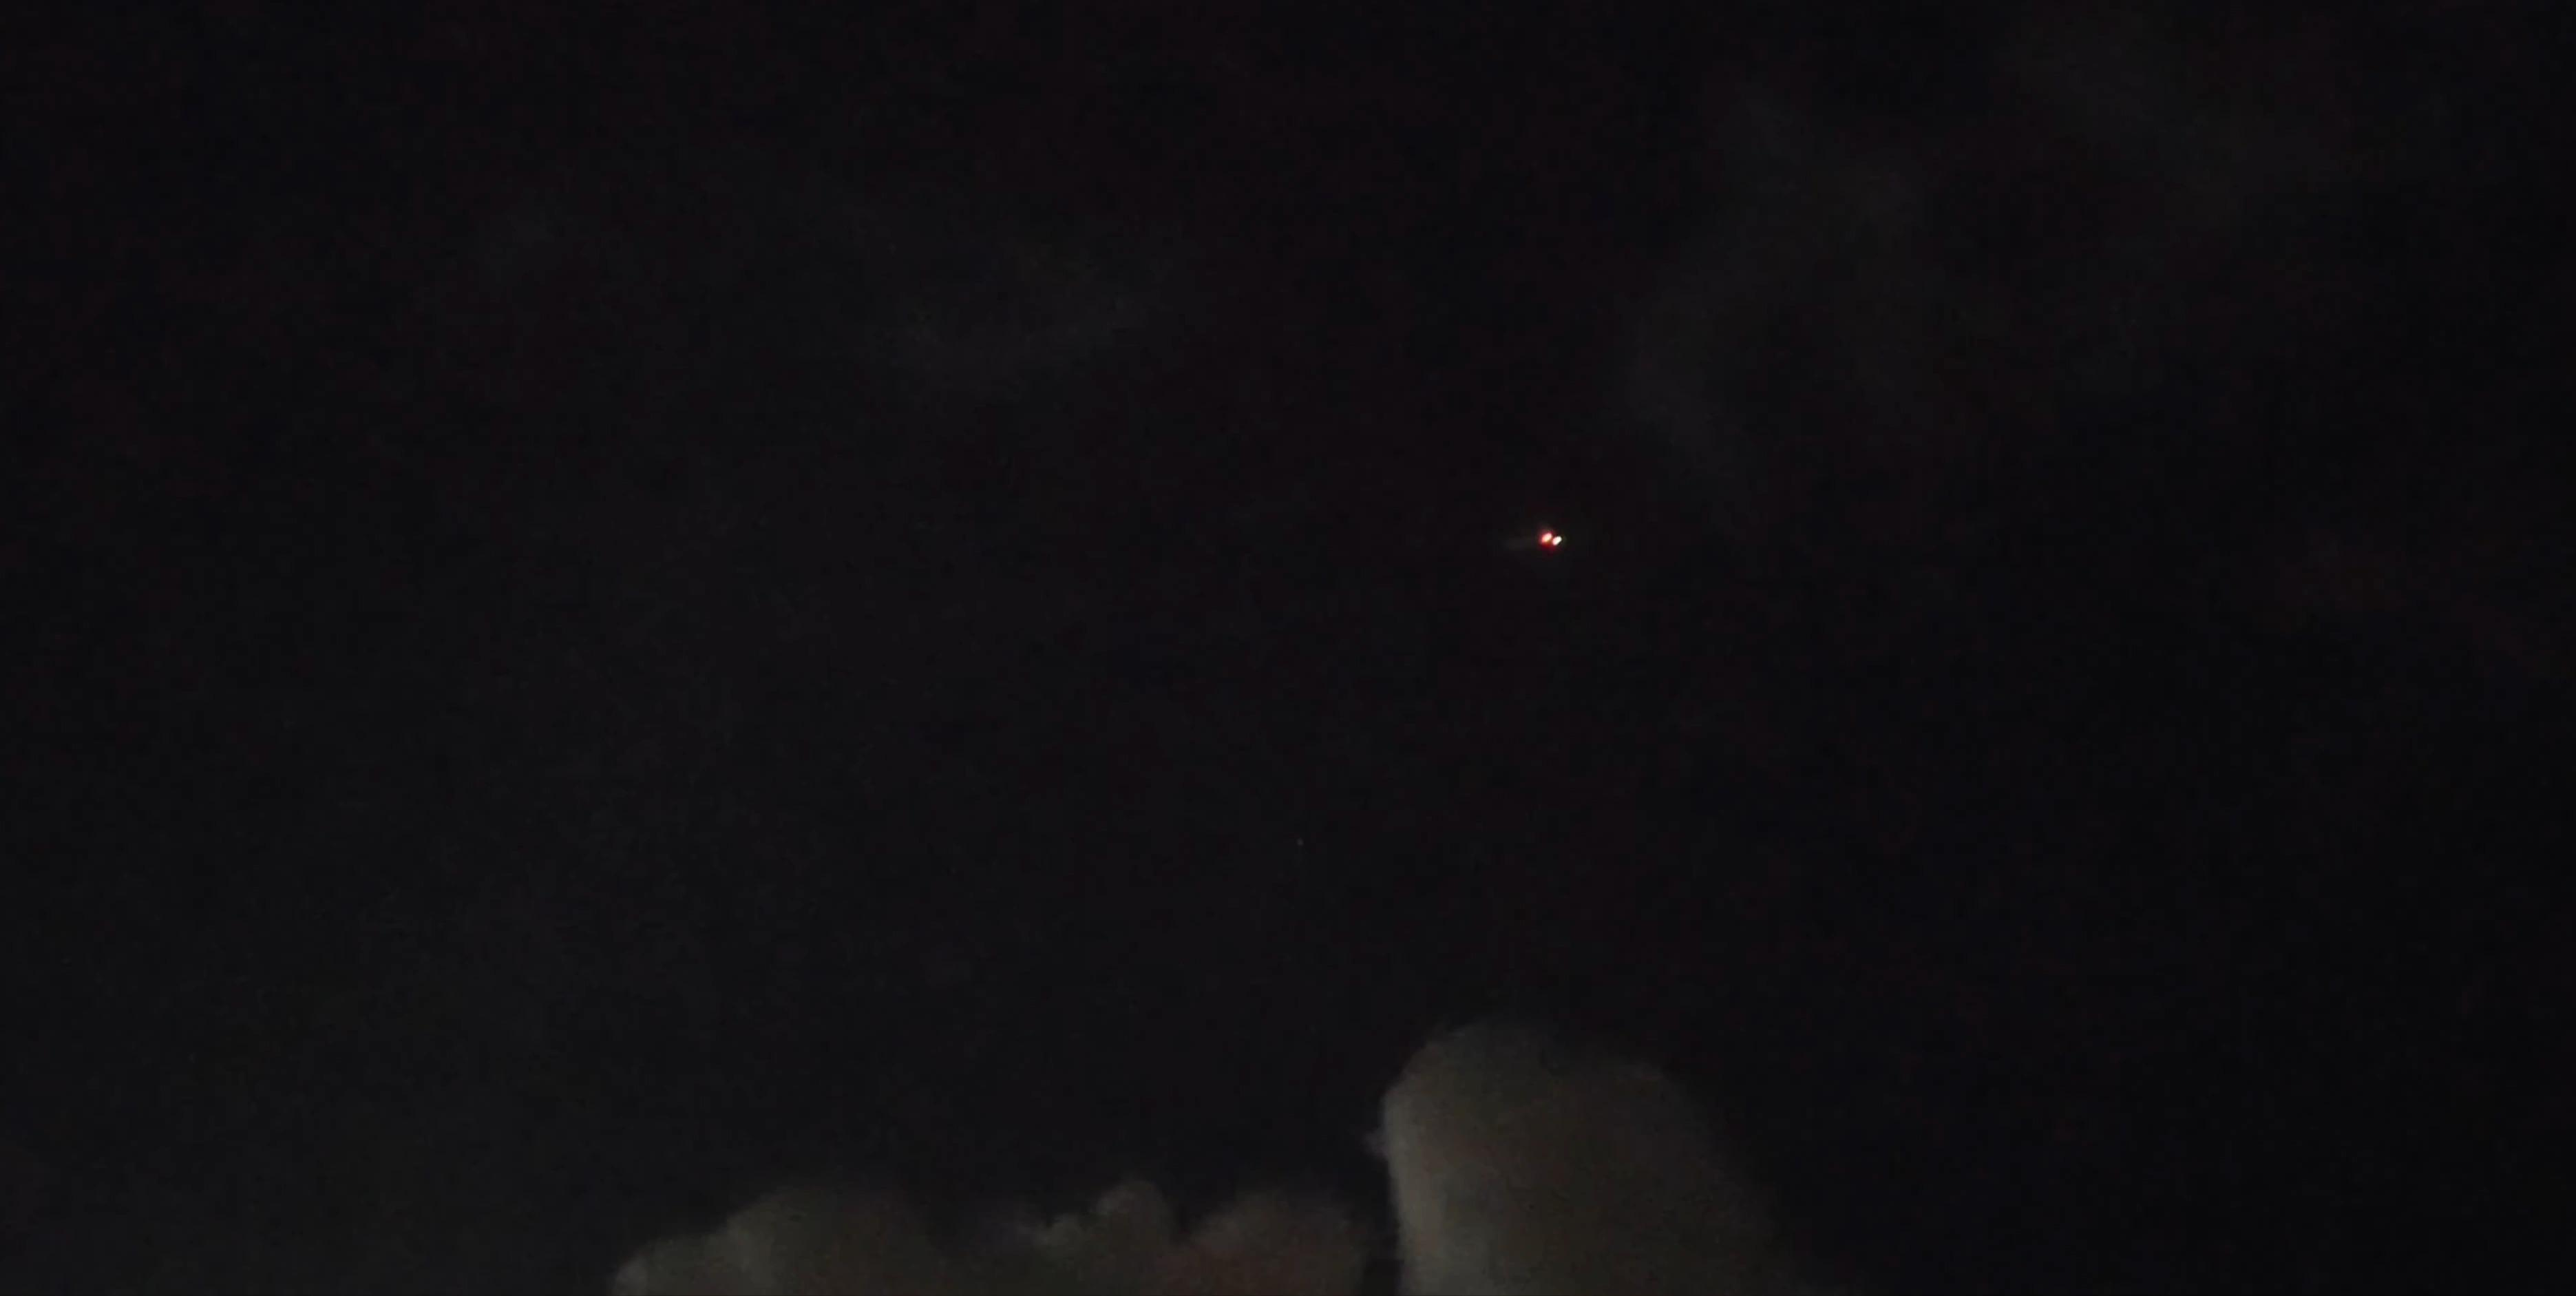Plane: (1471, 507, 1623, 572)
